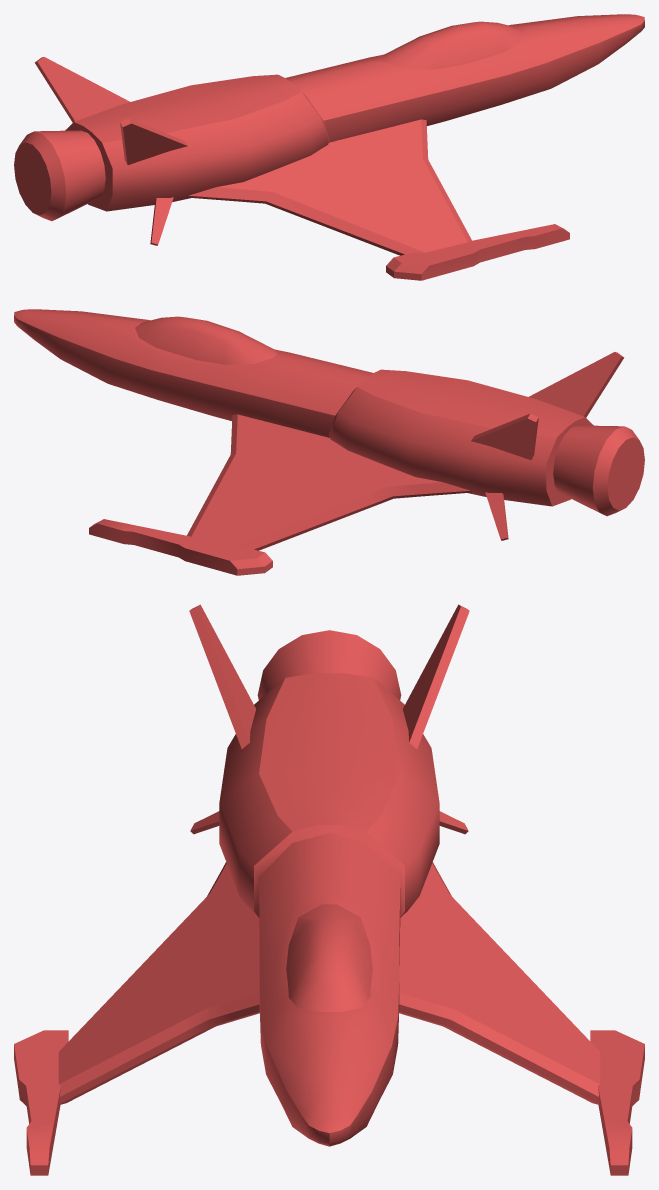
3 renders of one model, top to bottom at view 1: azimuth 30°, elevation 25°; view 2: azimuth 150°, elevation 25°; view 3: azimuth 270°, elevation 25°, orthographic. The views are drawn at different scales.
Visible parts, largest first — view 1: StarSparrow13; view 2: StarSparrow13; view 3: StarSparrow13.
Boxes of the visible parts, x1=… form: StarSparrow13: x1=14, y1=14, x2=644, y2=280; StarSparrow13: x1=14, y1=309, x2=644, y2=575; StarSparrow13: x1=14, y1=604, x2=644, y2=1175.
Bounding box in the file's own units: 423 × 116 × 242.
